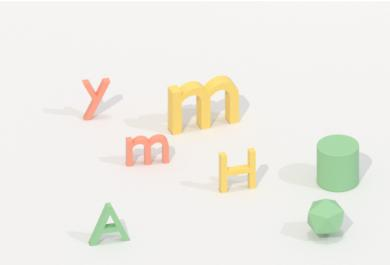0-KhoiTru: (311, 130, 364, 196)
0-TronCanh: (303, 195, 349, 242)
A: (83, 200, 138, 250)
H: (215, 145, 260, 198)
m: (163, 71, 246, 138), (123, 131, 174, 169)
y: (78, 74, 114, 124)
